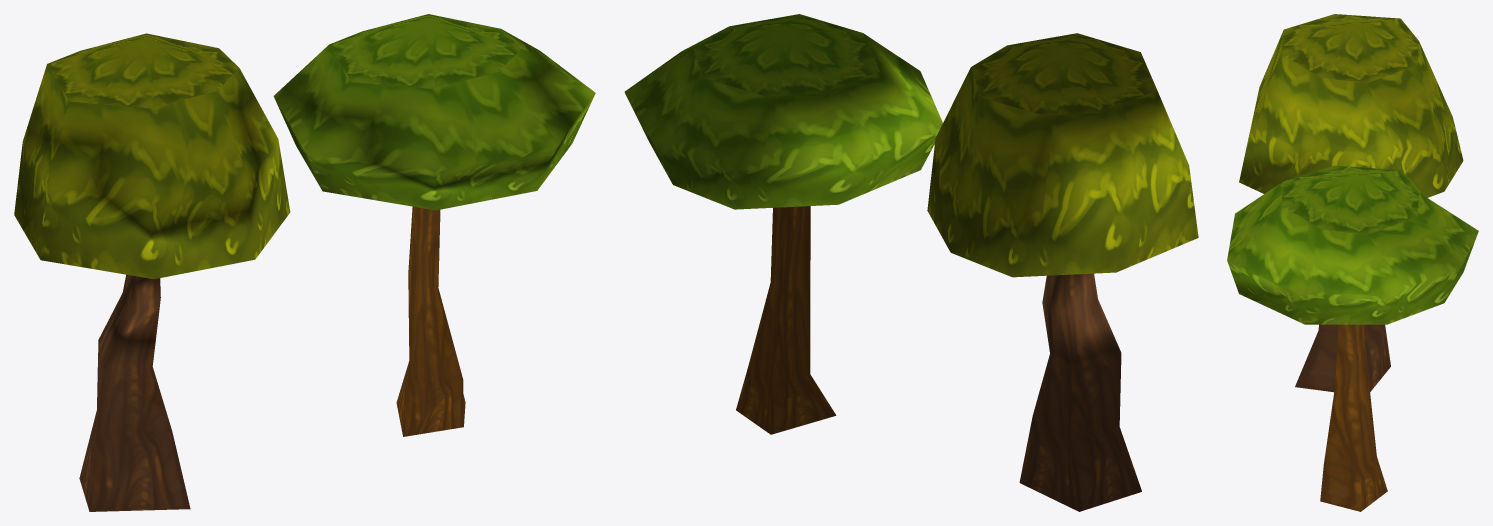
The model's file is arvores1.fbx.
3 renders of one model, left to right at view 1: azimuth 30°, elevation 25°; view 2: azimuth 150°, elevation 25°; view 3: azimuth 270°, elevation 25°, orthographic. The views are drawn at different scales.
Parts seen in each view (by area): view 1: polySurface19, polySurface18; view 2: polySurface19, polySurface18; view 3: polySurface18, polySurface19.
Boxes of the visible parts, x1,y1,x2,y2 form: polySurface19: (14,33,290,511); polySurface18: (273,14,595,436); polySurface19: (927,33,1198,511); polySurface18: (624,14,942,434); polySurface18: (1227,165,1478,511); polySurface19: (1239,14,1463,392).
Bounding box in the file's own units: 169 × 132 × 83.91.
2 materials, 2 textured.
